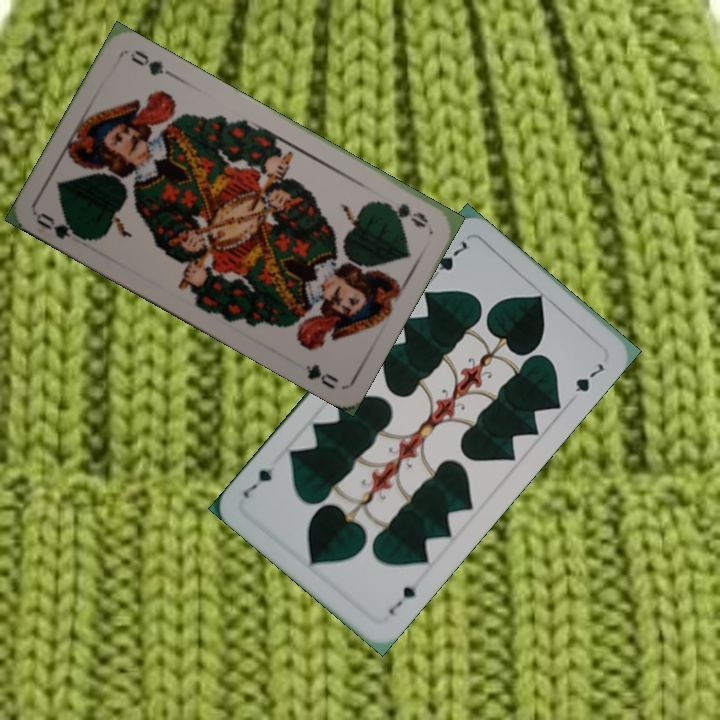G7: (426, 236, 470, 284), (384, 577, 423, 618)
GO: (32, 208, 90, 243), (376, 198, 431, 231)
